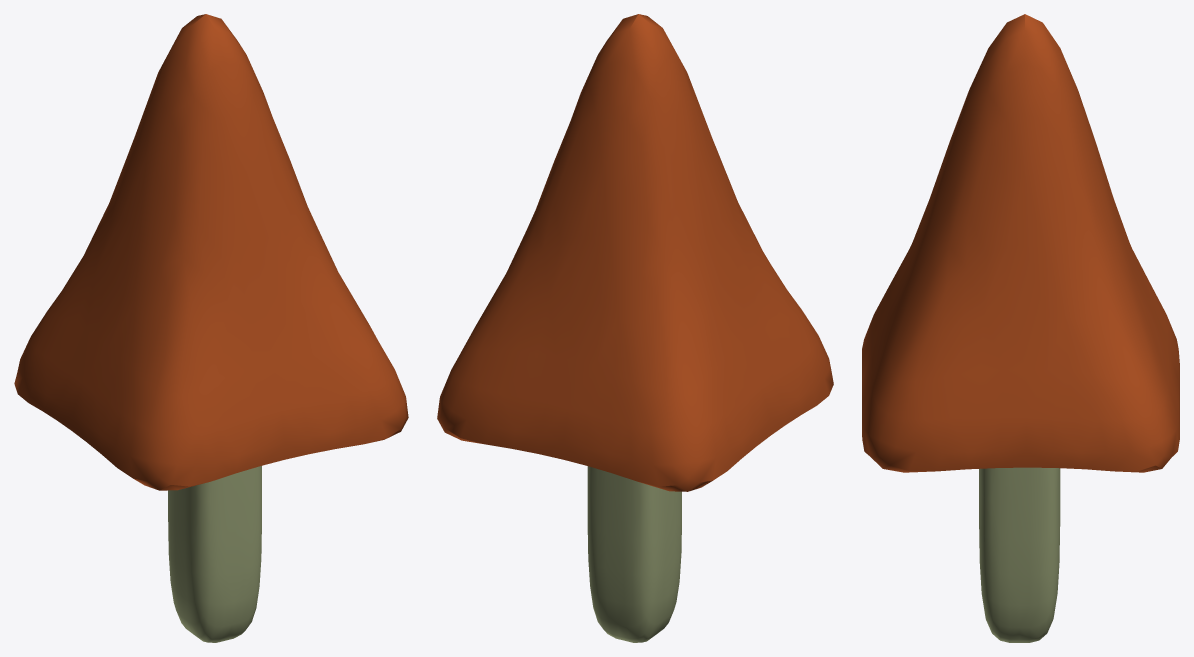
The model's file is Mushrom 3.fbx.
3 renders of one model, left to right at view 1: azimuth 30°, elevation 25°; view 2: azimuth 150°, elevation 25°; view 3: azimuth 270°, elevation 25°, orthographic.
Parts seen in each view (by area): view 1: Cube; view 2: Cube; view 3: Cube.
Part boxes in pixels (bbox=[...]): Cube: bbox=[14, 14, 408, 642]; Cube: bbox=[437, 14, 833, 642]; Cube: bbox=[862, 14, 1179, 642].
Size of the model in its own units: 166 by 356 by 166.
